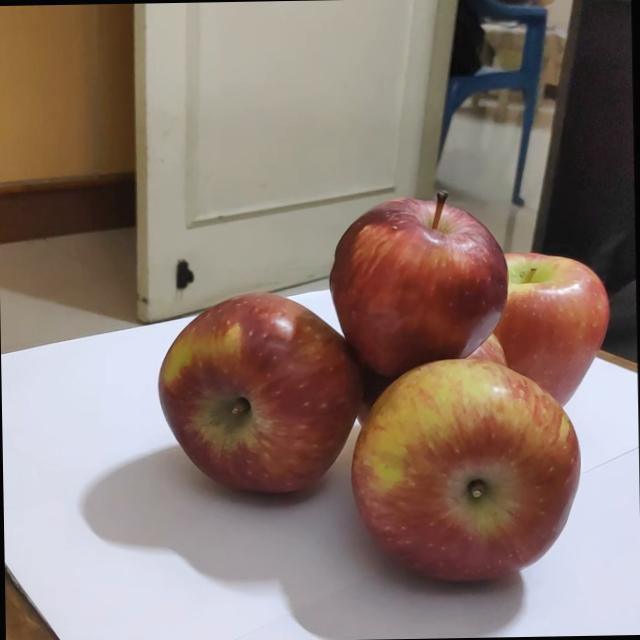apple: (143, 262, 380, 514), (378, 372, 567, 568), (336, 179, 520, 368), (468, 223, 636, 392)
